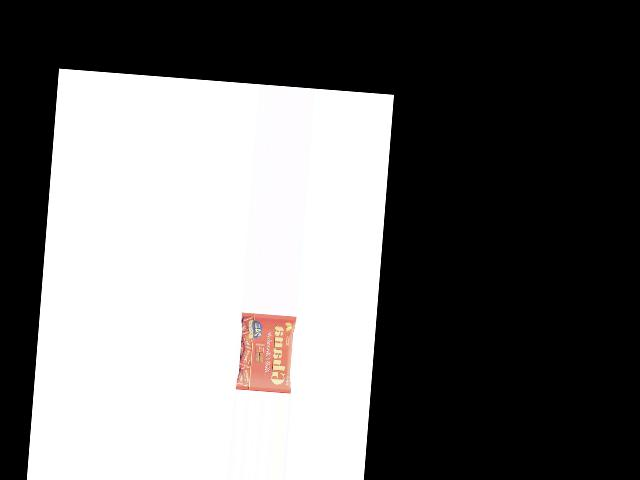chocolate: (234, 311, 295, 392)
